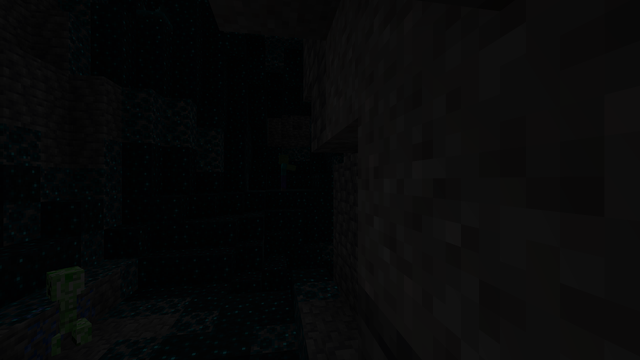creepers: (37, 262, 90, 354)
zombies: (278, 155, 289, 190)
